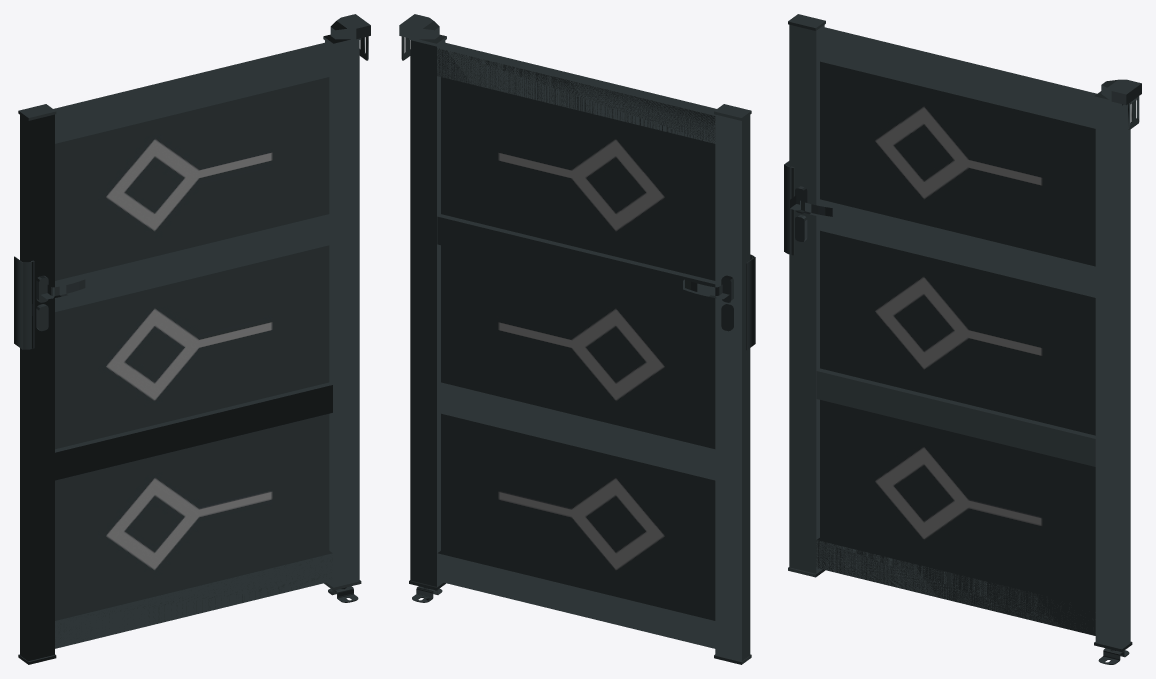
The picture shows the model from 3 angles, left to right: view 1: azimuth 30°, elevation 25°; view 2: azimuth 150°, elevation 25°; view 3: azimuth 330°, elevation 25°; orthographic projection.
Parts seen in each view (by area): view 1: folha, priximbattable_net_portillon_aluminium_134707_portillon_el_p, puxador; view 2: folha, priximbattable_net_portillon_aluminium_134707_portillon_el_p, puxador; view 3: folha, priximbattable_net_portillon_aluminium_134707_portillon_el_p, puxador.
Boxes of the visible parts, bbox=[...] form: folha: bbox=[18, 34, 361, 664]; priximbattable_net_portillon_aluminium_134707_portillon_el_p: bbox=[14, 14, 370, 602]; puxador: bbox=[36, 275, 48, 331]; folha: bbox=[409, 34, 751, 664]; priximbattable_net_portillon_aluminium_134707_portillon_el_p: bbox=[399, 14, 755, 602]; puxador: bbox=[721, 275, 733, 331]; folha: bbox=[788, 14, 1132, 651]; priximbattable_net_portillon_aluminium_134707_portillon_el_p: bbox=[784, 79, 1141, 664]; puxador: bbox=[795, 186, 807, 241].
Size of the model in its own units: 104 by 164 by 14.86.
Materials: 1 (1 with a texture image).
